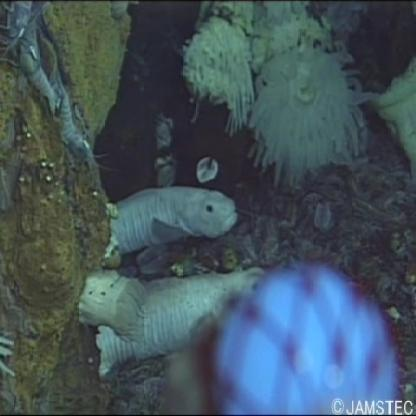Bio: (70, 178, 278, 382), (1, 1, 95, 176)
